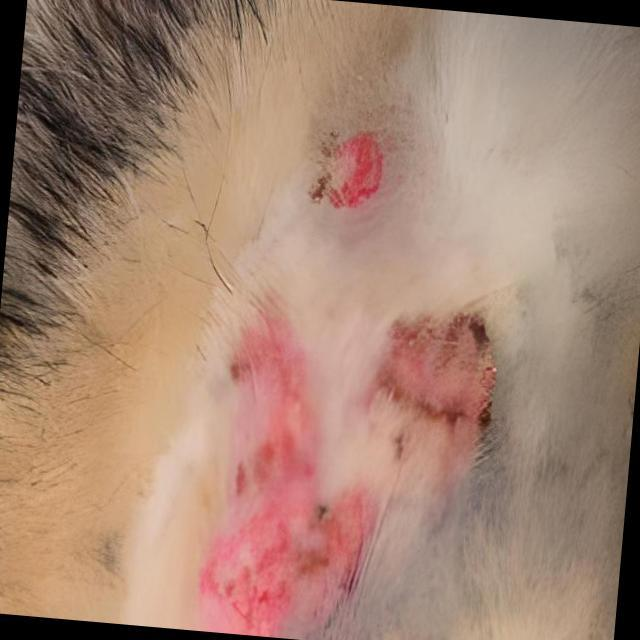allergic dermatitis: (200, 300, 374, 640), (373, 321, 500, 430), (304, 130, 384, 243)
